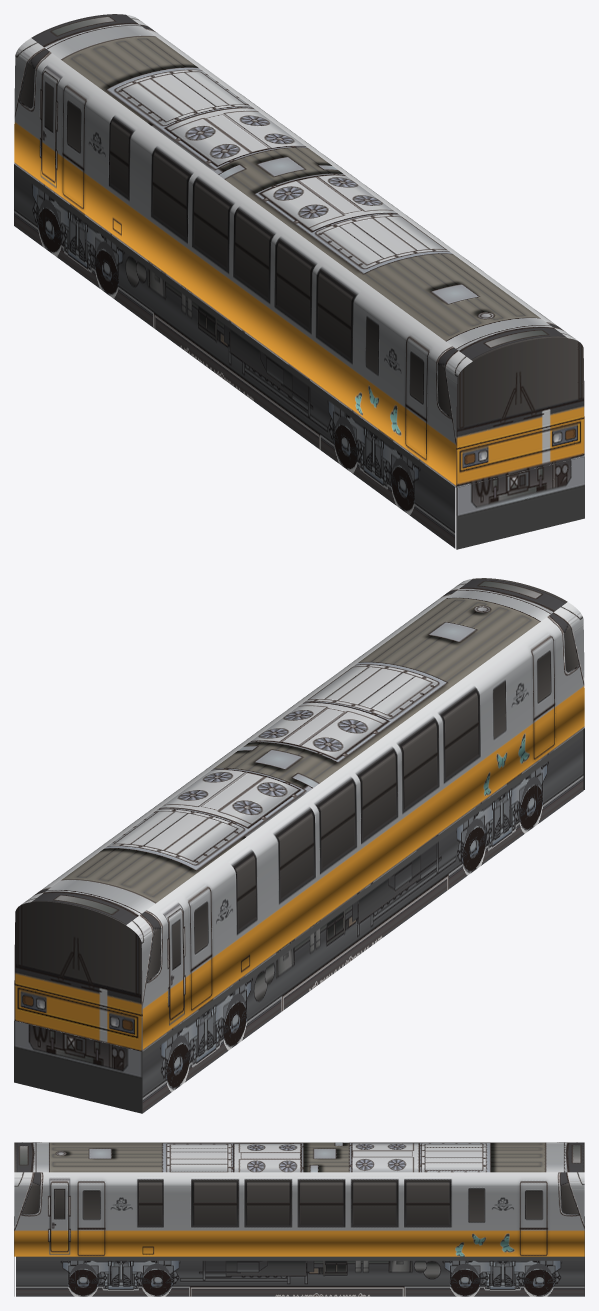
Rendered from car1.glb.
3 views of the same model, one above another, from view 1: azimuth 30°, elevation 25°; view 2: azimuth 150°, elevation 25°; view 3: azimuth 270°, elevation 25° (orthographic). The views are drawn at different scales.
Visible parts, largest first — view 1: minamiaso-mt3000-car1; view 2: minamiaso-mt3000-car1; view 3: minamiaso-mt3000-car1.
Part boxes in pixels (left/top/right/bottom): minamiaso-mt3000-car1: left=14, top=14, right=584, bottom=549; minamiaso-mt3000-car1: left=14, top=578, right=584, bottom=1113; minamiaso-mt3000-car1: left=14, top=1142, right=584, bottom=1296.
Size of the model in its own units: 2.7 by 3.85 by 16.13.
9 materials, 8 textured.
